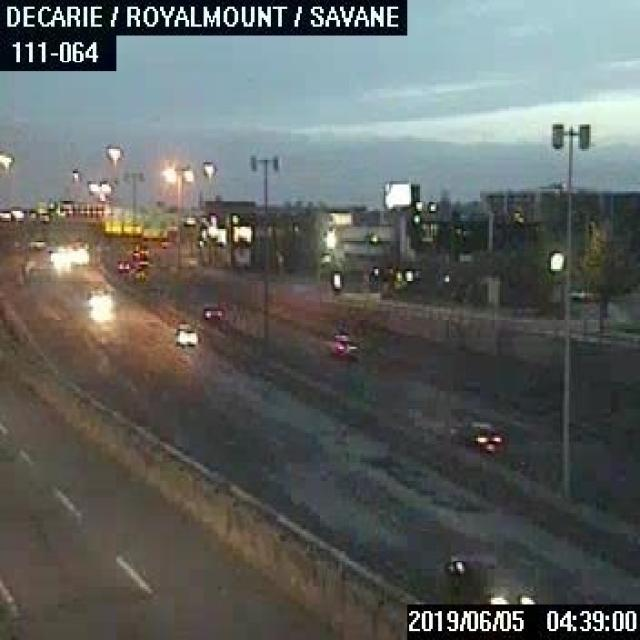vehicle: (431, 544, 536, 602), (464, 425, 504, 451), (322, 329, 356, 358), (171, 318, 198, 347), (200, 300, 220, 318)
